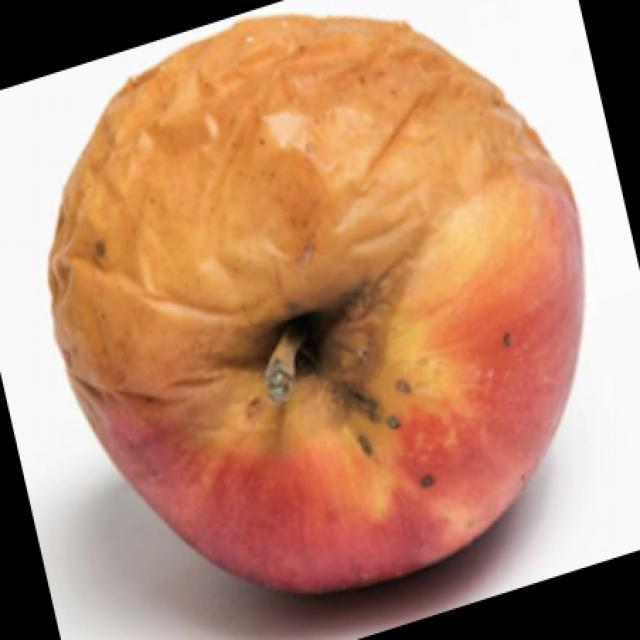Rotten: (60, 17, 565, 600)
